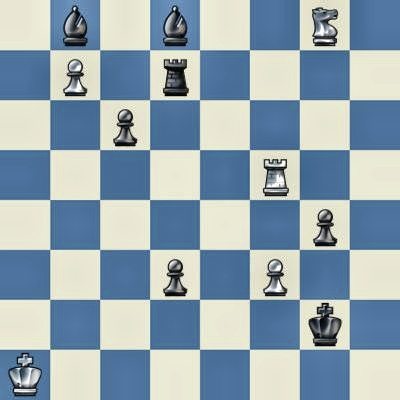black-bishop: (50, 0, 100, 50), (150, 0, 200, 50)
black-king: (300, 300, 350, 350)
black-pawn: (100, 100, 150, 150), (300, 200, 350, 250), (150, 250, 200, 300)
black-rook: (150, 50, 200, 100)
white-king: (0, 350, 50, 400)
white-knight: (300, 0, 350, 50)
white-pawn: (50, 50, 100, 100), (250, 250, 300, 300)
white-rook: (250, 150, 300, 200)
